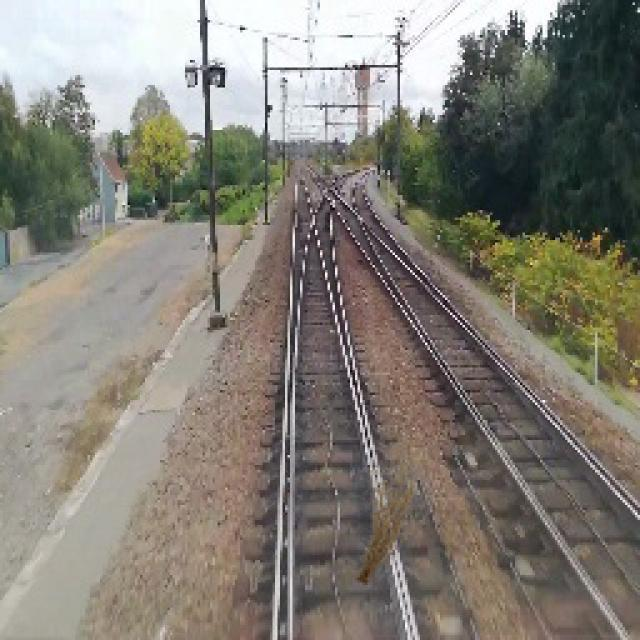rail: (250, 156, 490, 640)
